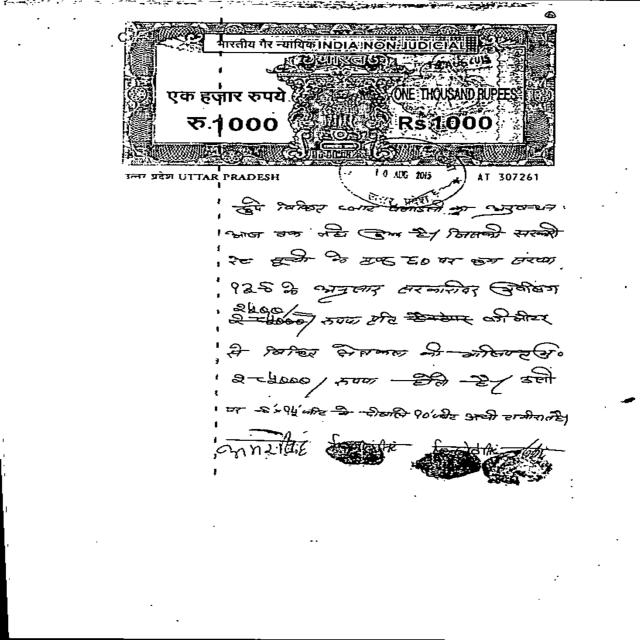afidivitstamp: (127, 24, 554, 167)
fingerprint: (484, 442, 551, 483), (412, 444, 478, 482), (328, 437, 386, 468)
mohar: (337, 138, 467, 209)
